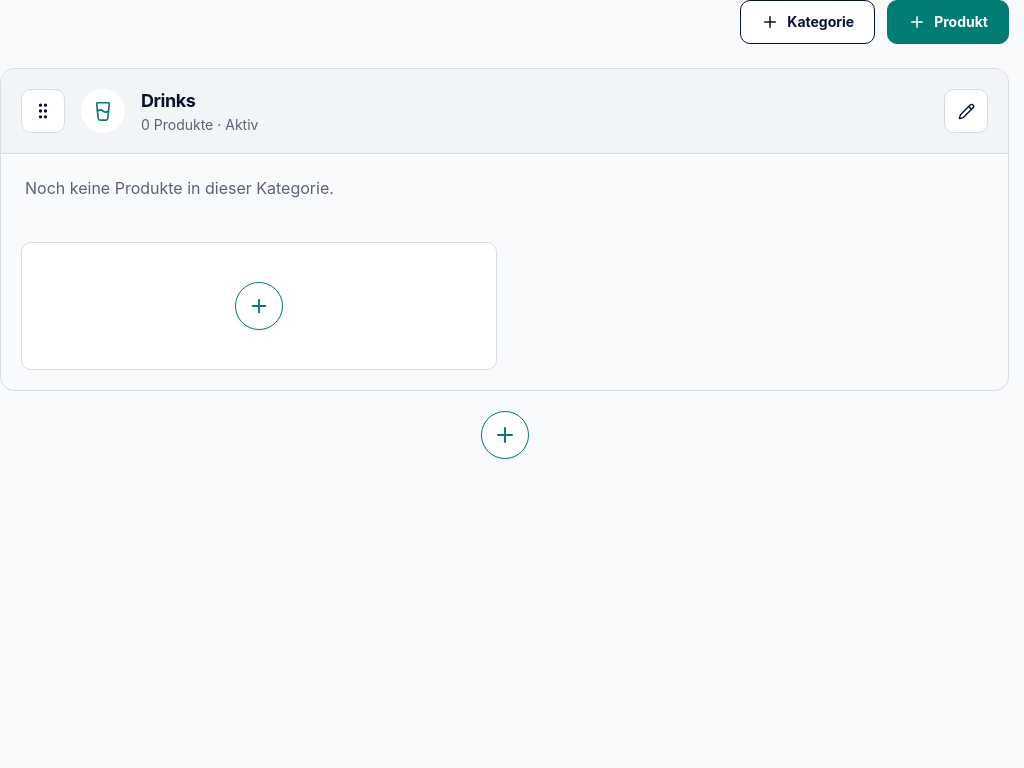
Test: CatalogPanel › keeps the product dialog open when the native image picker is cancelled
Expected: the button "Kategorie" is shown, [740, 0, 875, 44]
Click the button "Produkt".
click(948, 22)  # box [887, 0, 1009, 44]
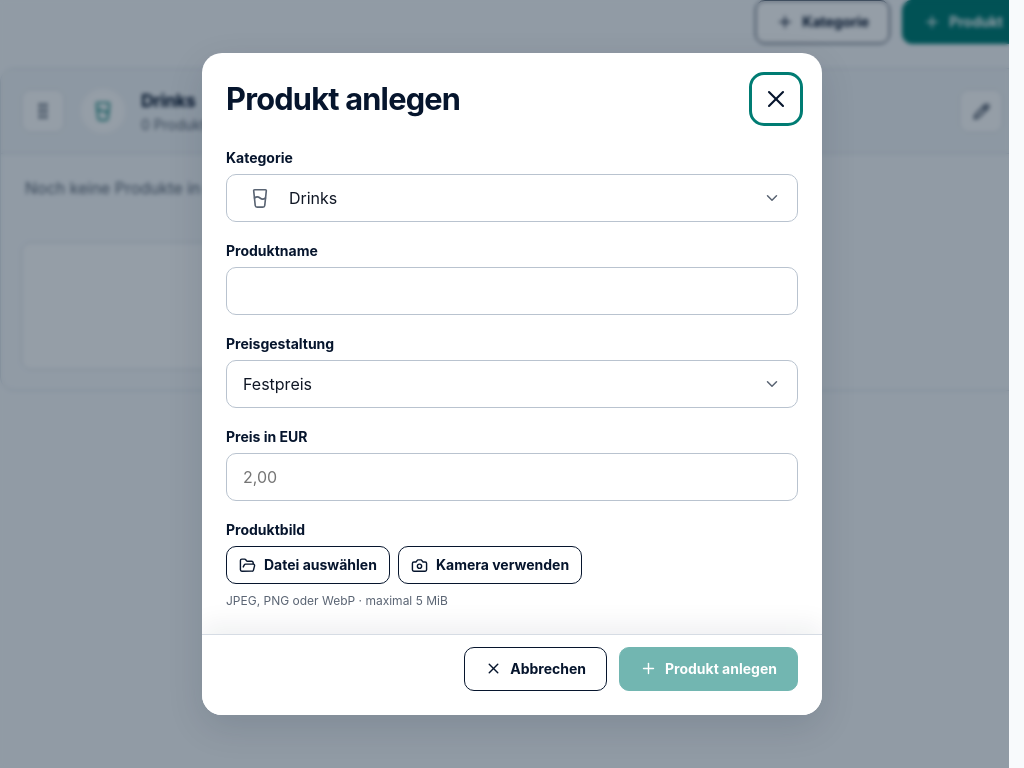
Now the dialog "Produkt anlegen" is shown, box [202, 53, 822, 715]
